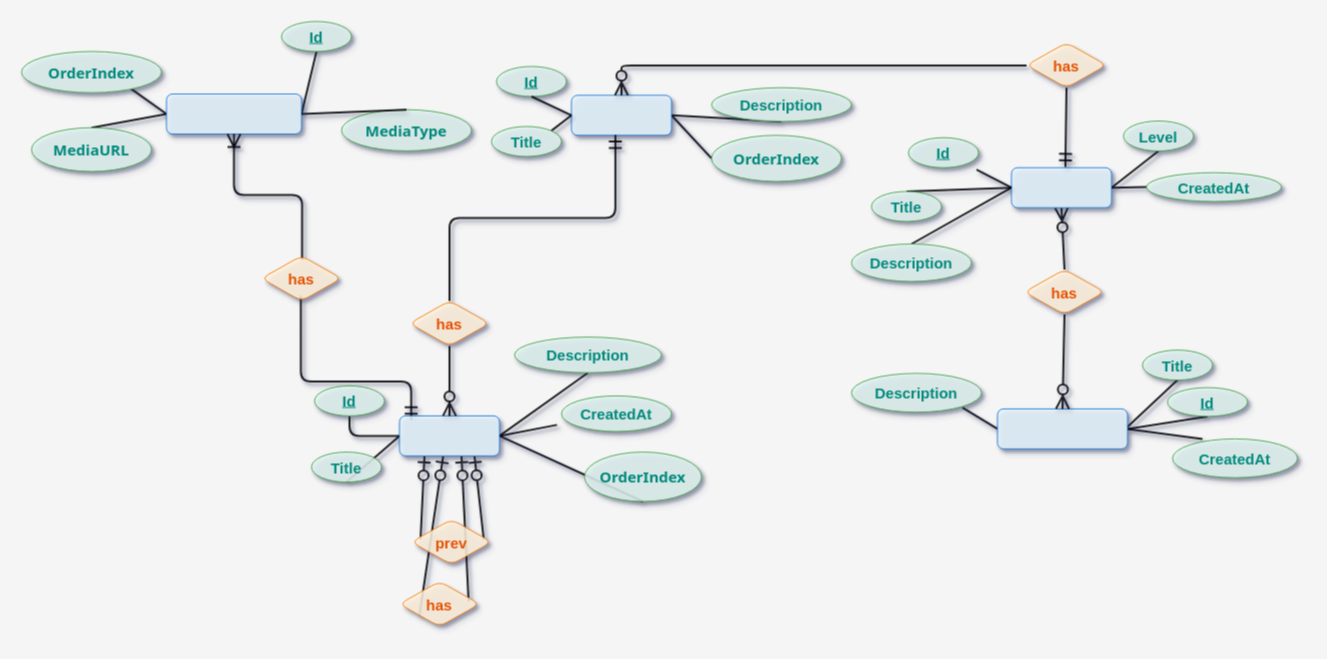
This 1327x659 diagram has some shape labels left out. The shapes that lost their labels are listed below. From the top down, each one's centre as x and y in pixels, then its label:
At (x=235, y=115): "LessonMedia".
At (x=622, y=116): "Module".
At (x=1062, y=189): "Course".
At (x=450, y=437): "Lessons".
At (x=1063, y=430): "LearningPath".
